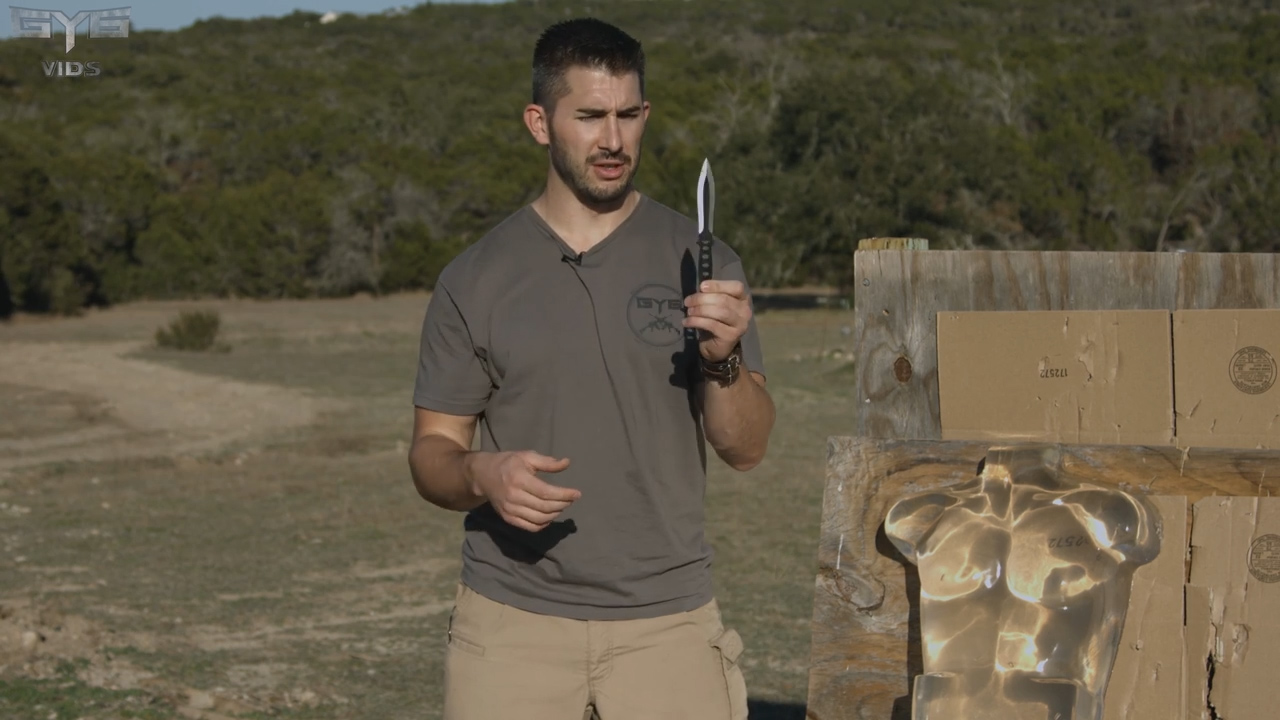knife: (684, 146, 747, 349)
